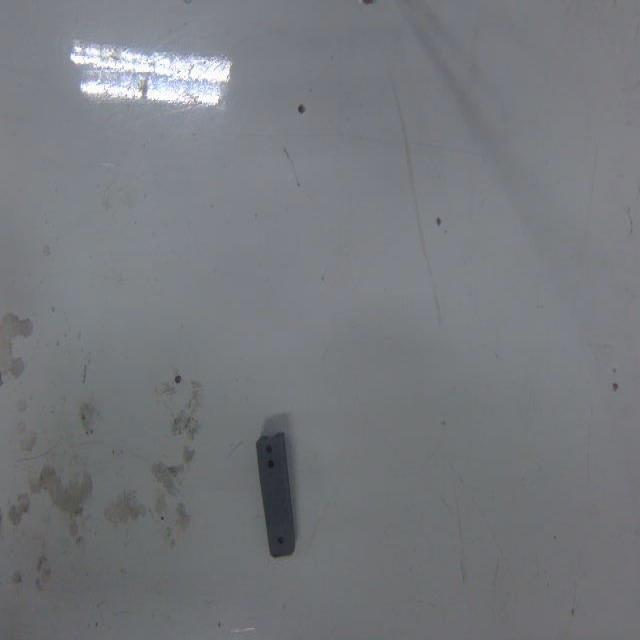grey: (258, 430, 300, 560)
head: (274, 534, 286, 548)
